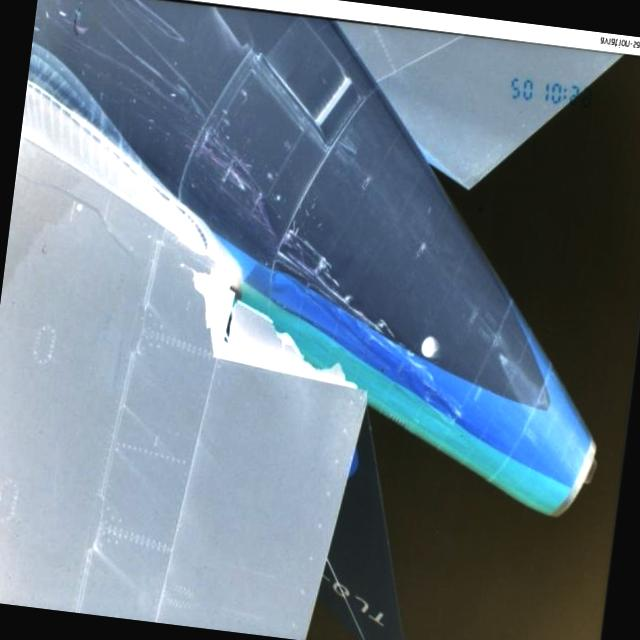crack: (159, 250, 370, 392)
